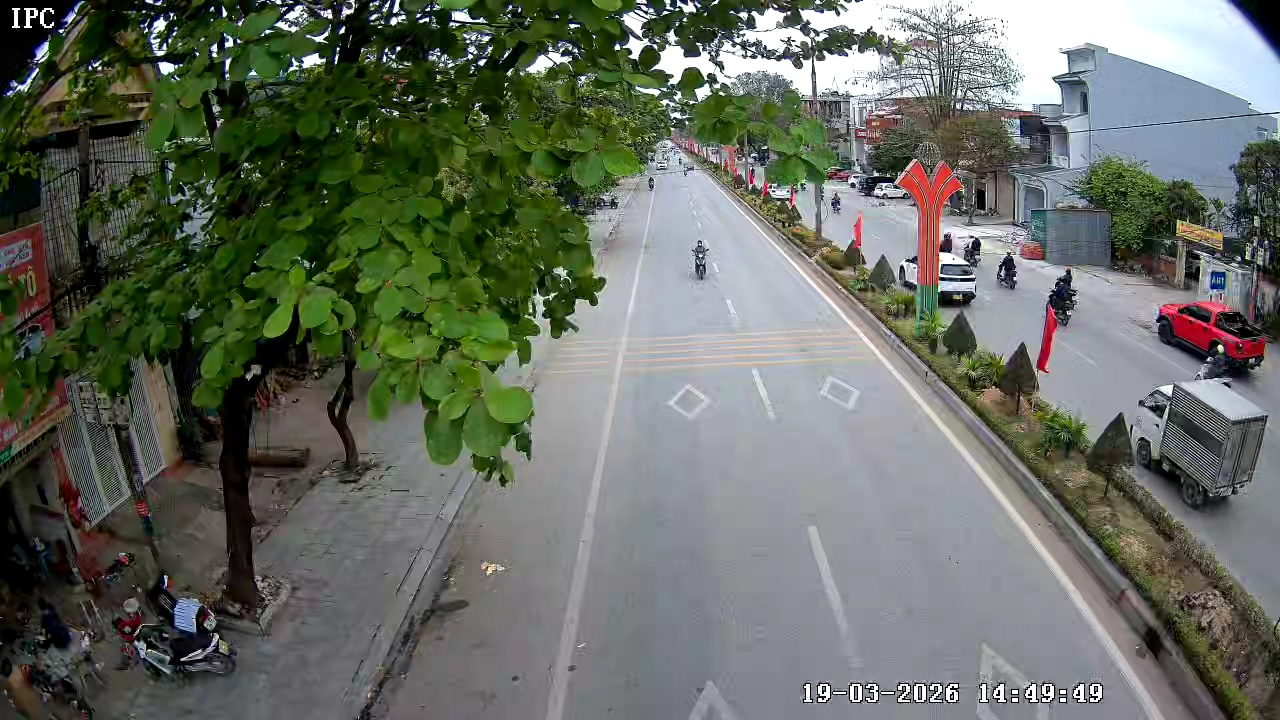car: (937, 255, 977, 305)
motorbike: (1047, 270, 1079, 326), (689, 237, 712, 280), (997, 251, 1020, 290)
truck: (1133, 378, 1270, 508)
